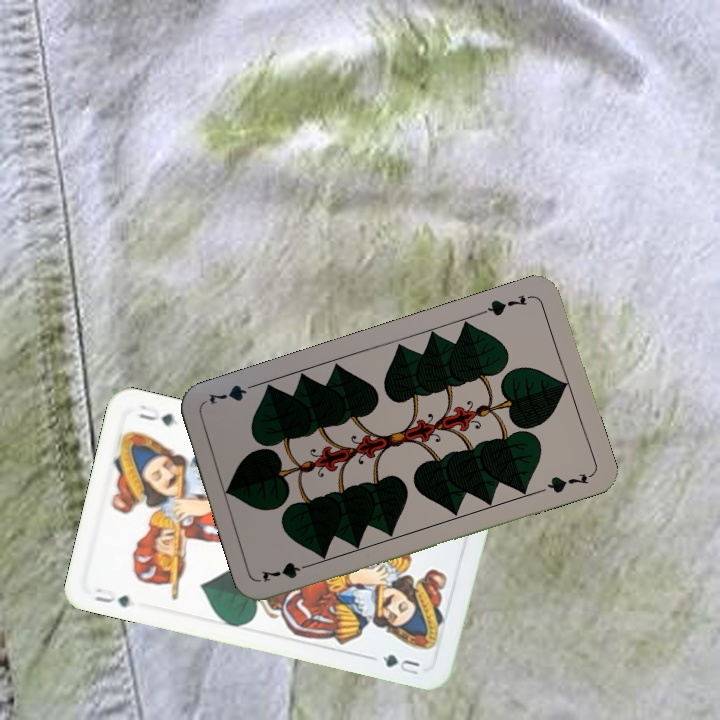G7: (477, 290, 535, 319), (258, 558, 317, 585)
GU: (91, 584, 133, 610)
